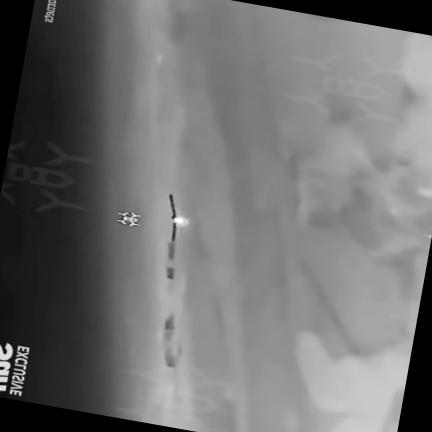Shahed: (169, 195, 187, 242)
